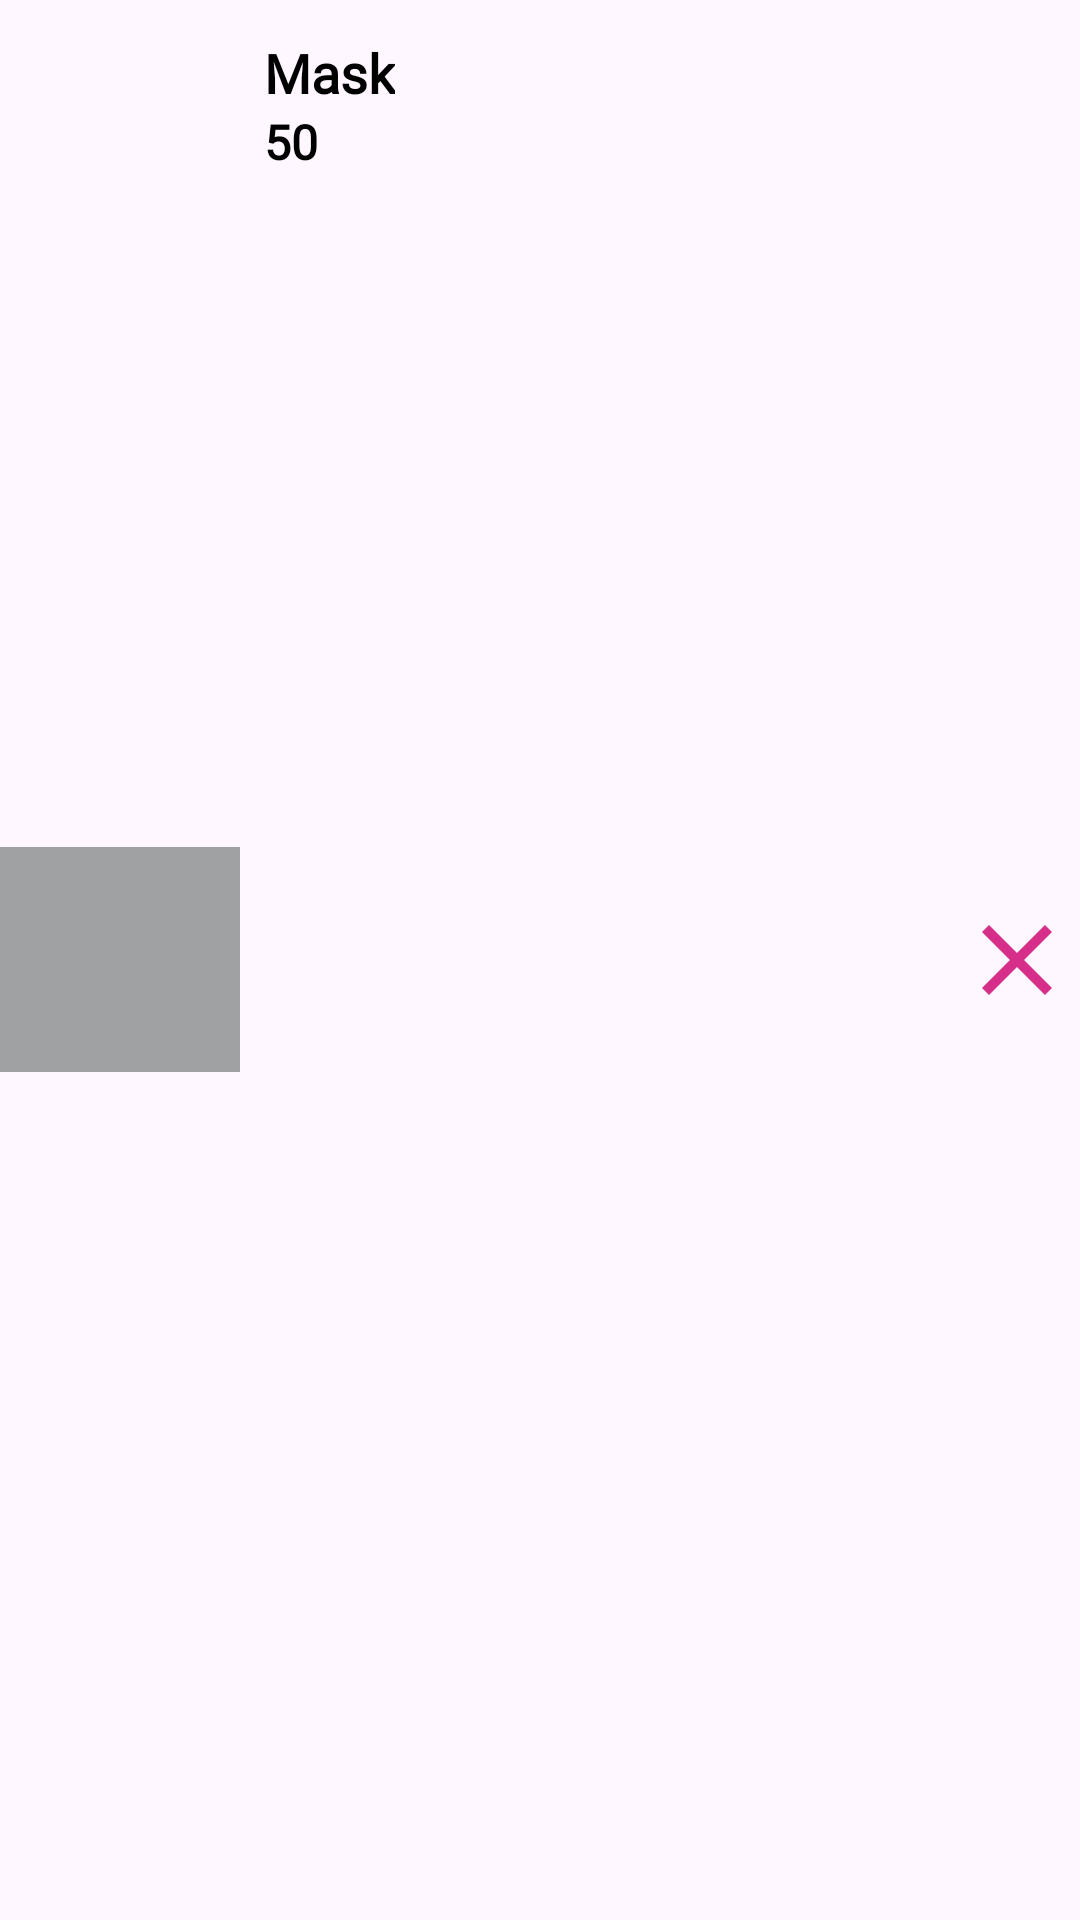

Locate icon controls on the screen. Image size 1080*1920, boxes as (x1, y1, x2, y2).
close: (982, 925, 1052, 995)
